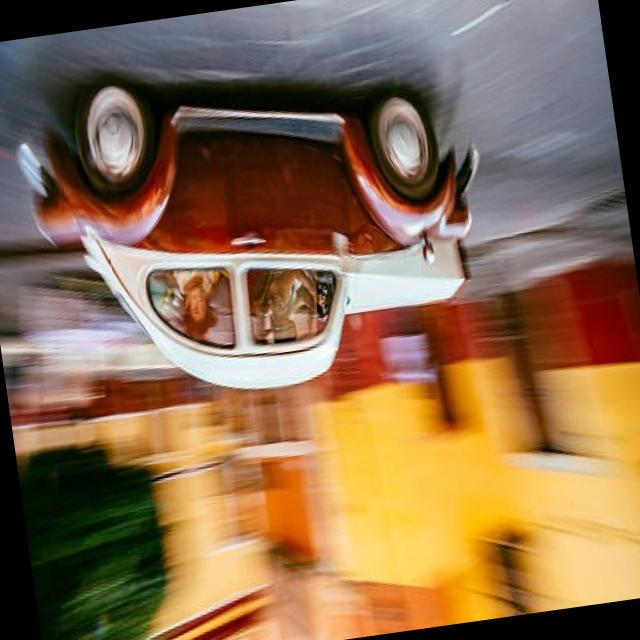car: (29, 66, 486, 402)
